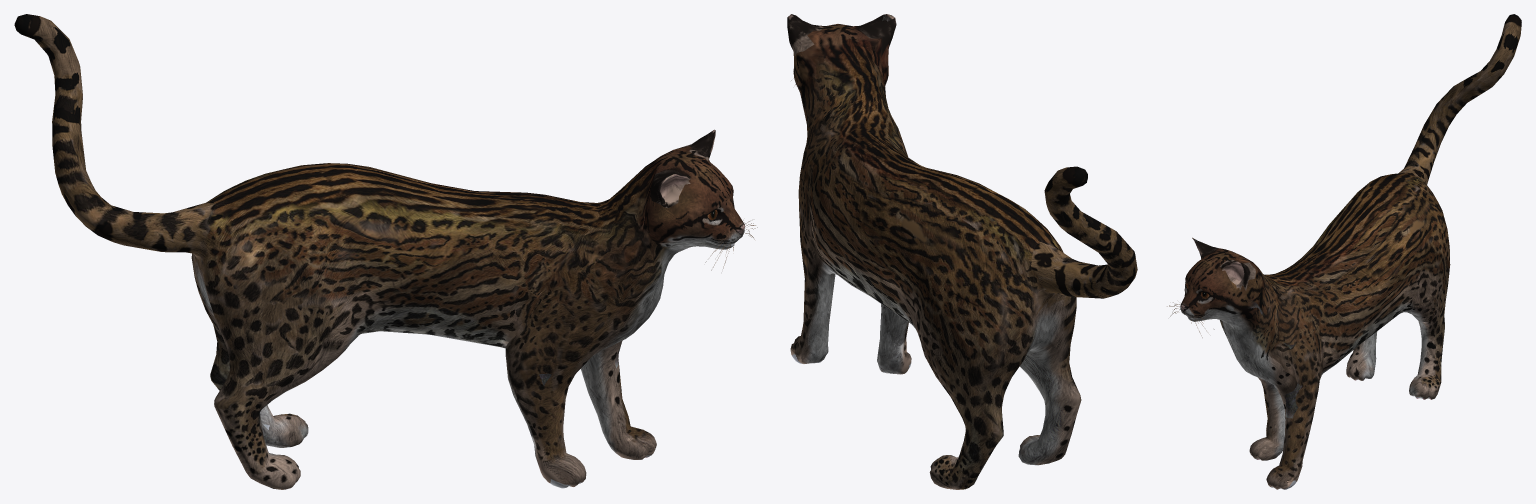
The model's file is Manigordo-processed.glb.
The picture shows the model from 3 angles, left to right: view 1: azimuth 30°, elevation 25°; view 2: azimuth 150°, elevation 25°; view 3: azimuth 270°, elevation 25°; orthographic projection. The views are drawn at different scales.
Parts seen in each view (by area): view 1: Ocelot; view 2: Ocelot; view 3: Ocelot.
Part boxes in pixels (left/top/right/bottom): Ocelot: left=14, top=14, right=757, bottom=489; Ocelot: left=787, top=14, right=1137, bottom=489; Ocelot: left=1167, top=14, right=1521, bottom=489.
Bounding box in the file's own units: 4.77 × 3.71 × 3.82.
Materials: 1 (1 with a texture image).
